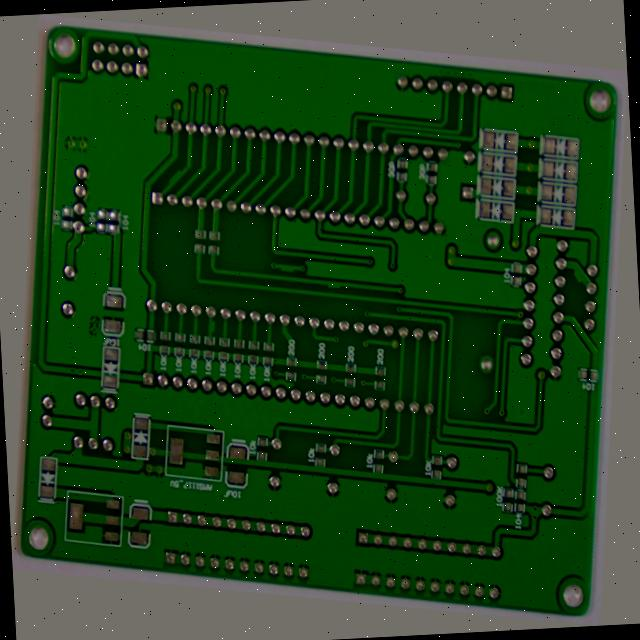spur: (137, 169, 160, 192), (581, 214, 602, 238), (269, 256, 288, 275), (321, 269, 341, 286), (197, 334, 210, 357)
